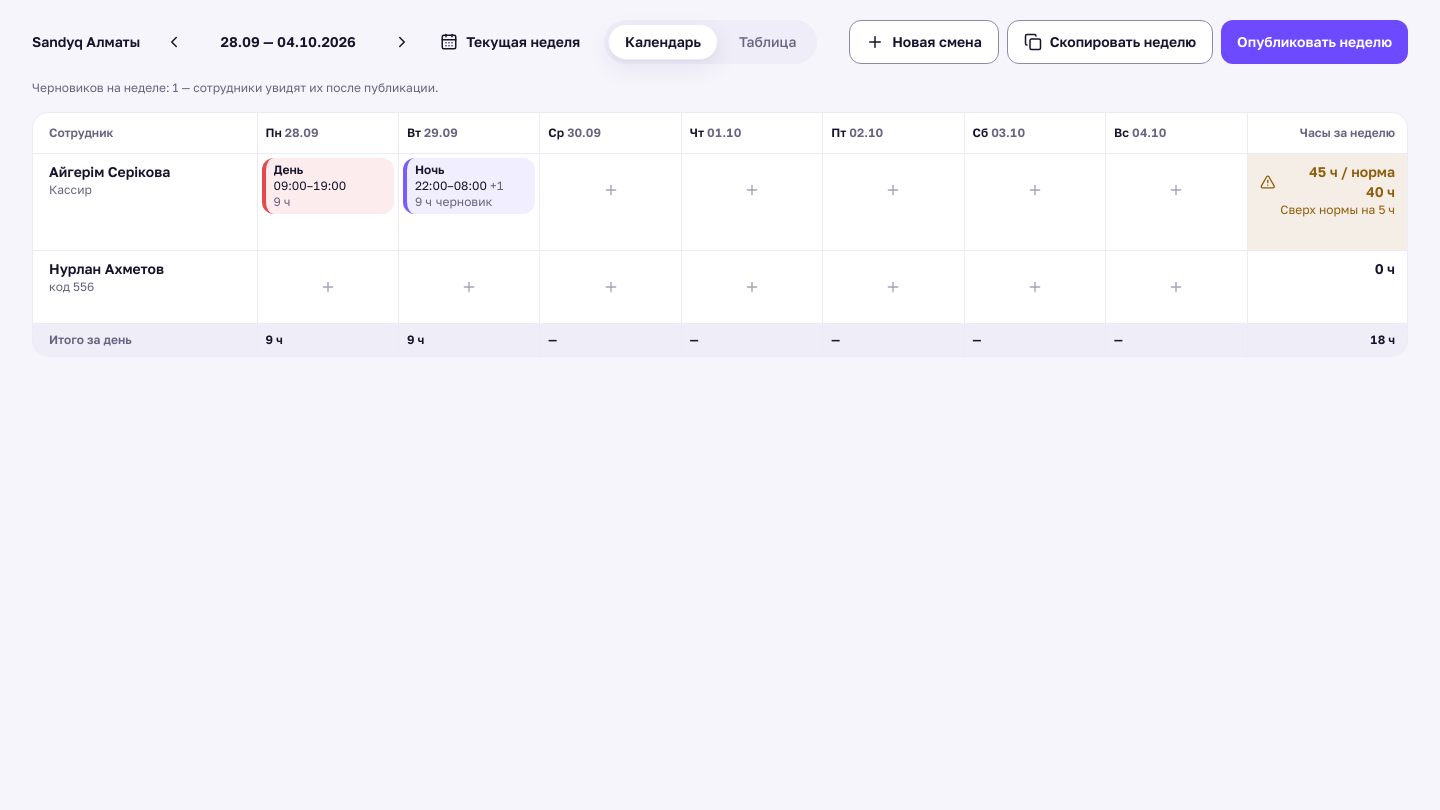
Test: «Расписание» week calendar › a published shift is read-only: «Снять и создать новую» removes it and opens a new shift
This screenshot has width=1440, height=810.
Click the button with aria-label "Смена: Айгерім Серікова, Пн 28.09". click: (328, 186)
box: [262,158,394,214]
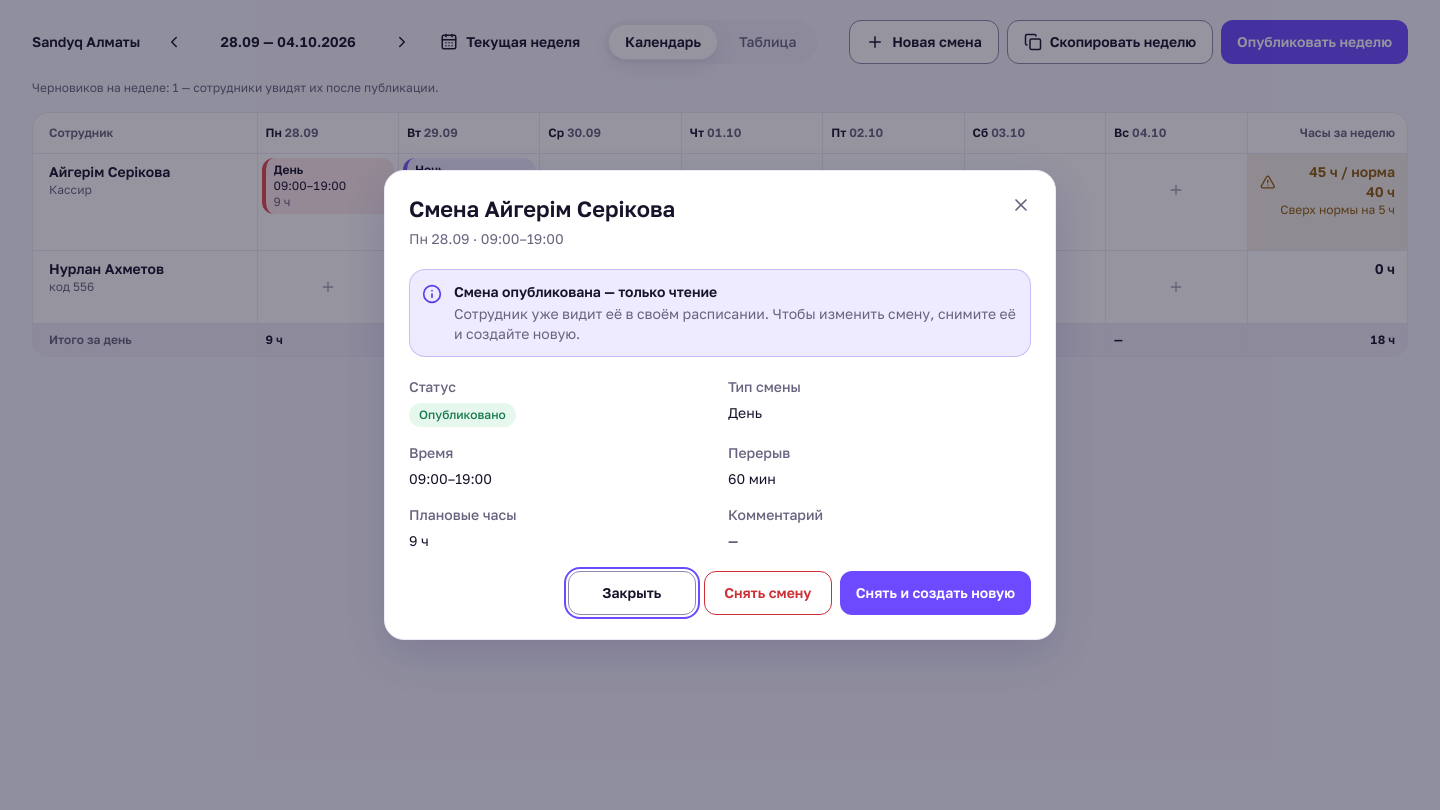
Check: the field labelled "Начало" is not shown
Check: the text "Смена опубликована — только чтение" is shown, box [454,283,717,300]
Click the button "Снять и создать новую". click: (935, 593)
box: [840,571,1031,615]
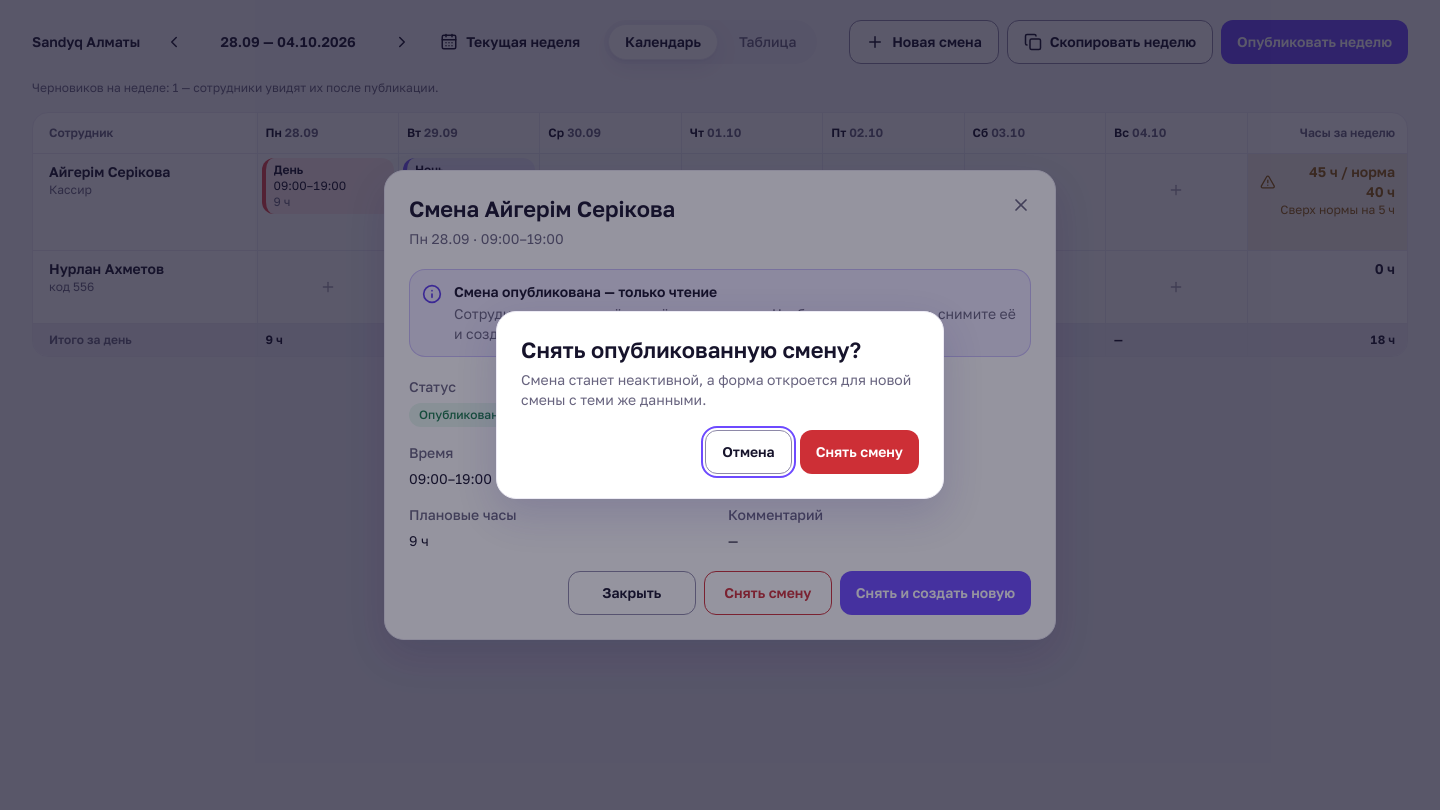
Click the button "Снять смену". click: (859, 452)
box: [800,430,919,474]
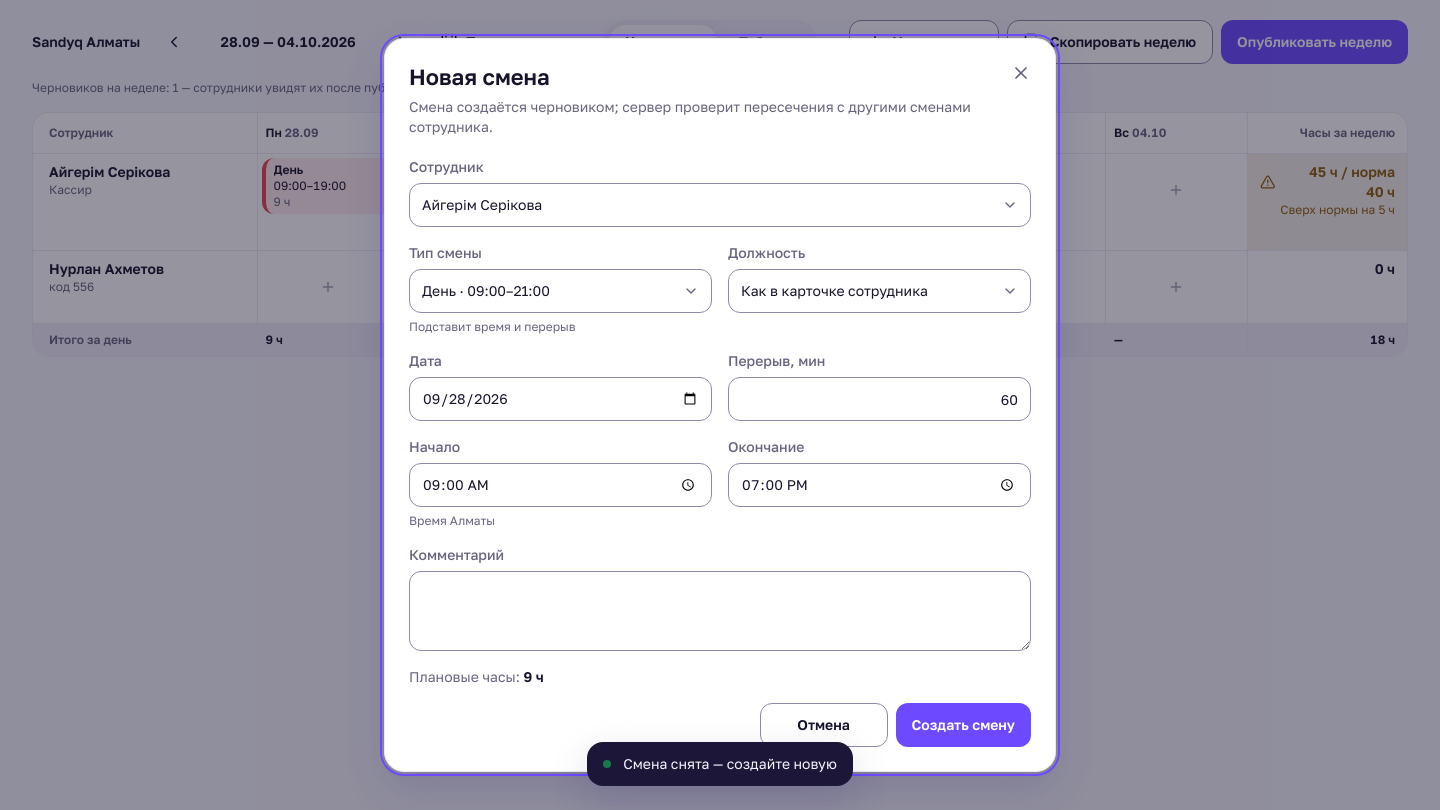
Check: the heading "Новая смена" is shown, box [409,63,550,90]
Check: the time field labelled "Начало" holds "09:00", box [409,463,712,507]
